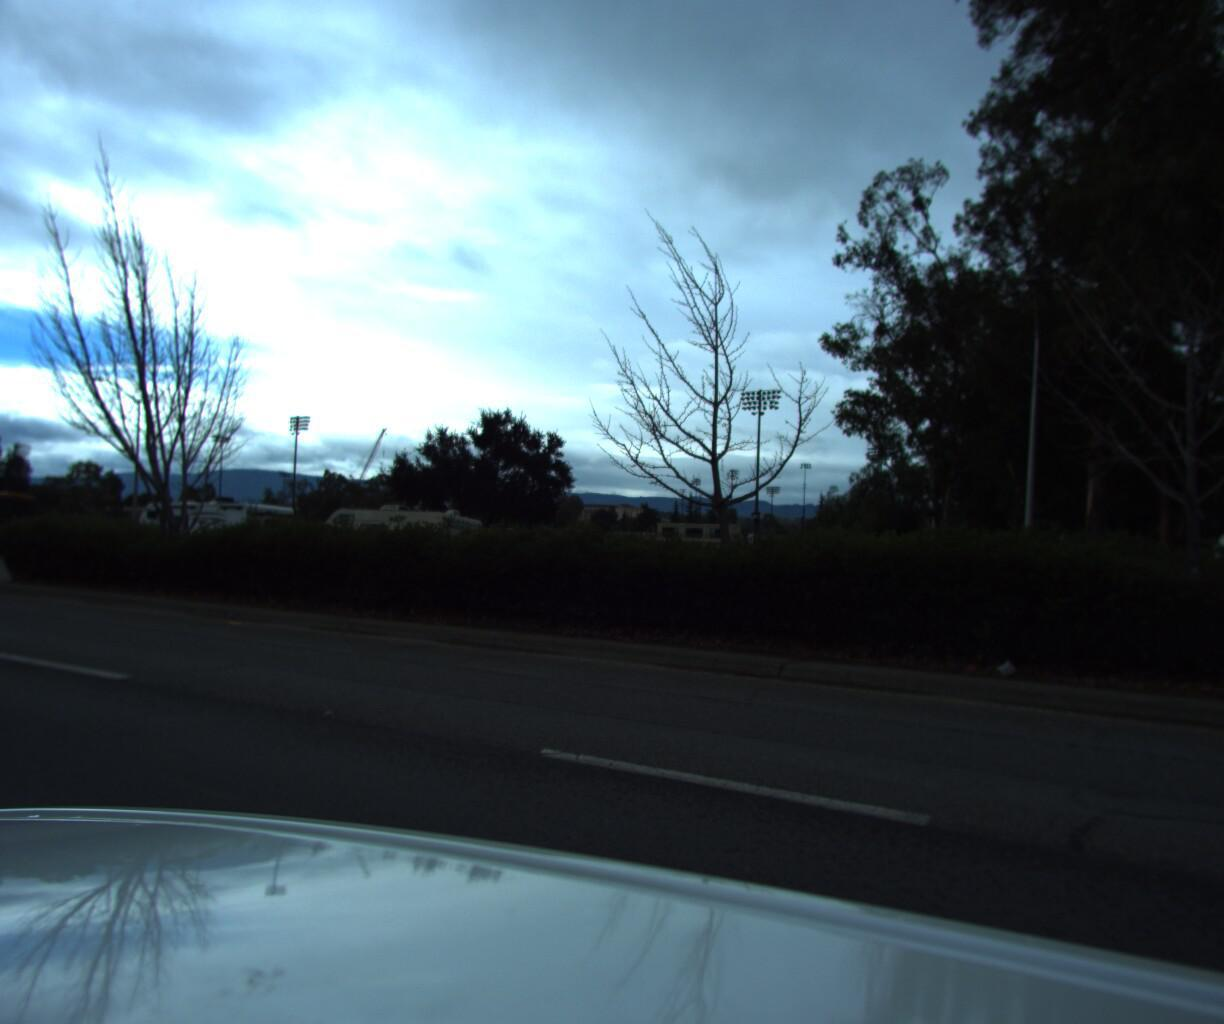bus: (0, 483, 38, 557)
other_vehicle: (304, 495, 488, 588), (123, 487, 299, 578), (1172, 506, 1224, 680)
